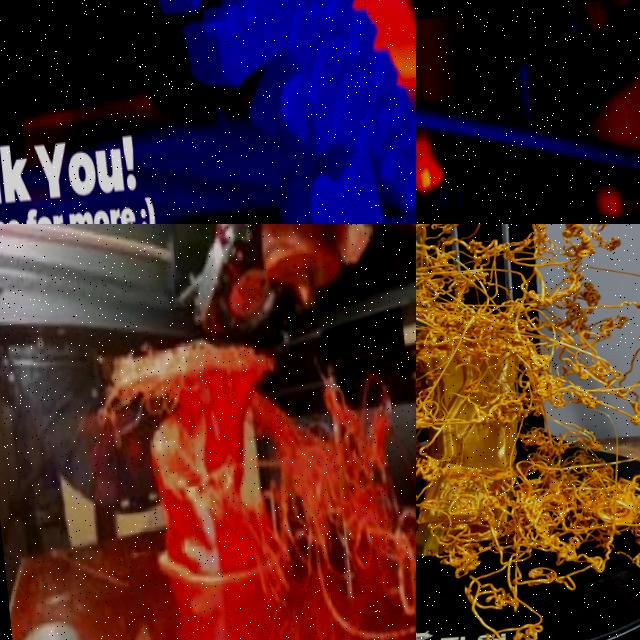spaghetti: (416, 224, 640, 640), (257, 371, 416, 640)
